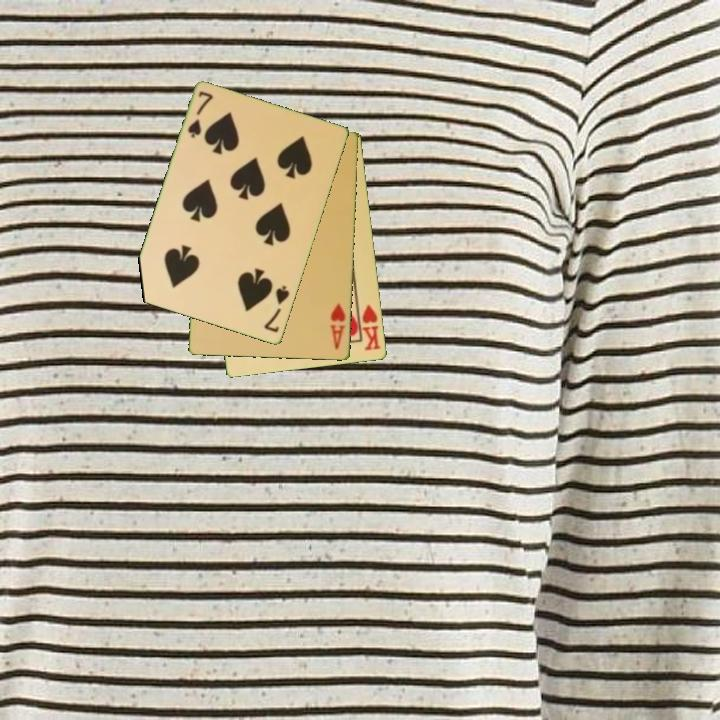7s: (261, 282, 293, 336), (184, 88, 216, 141)
Ah: (327, 300, 348, 353)
Kh: (354, 299, 383, 354)
